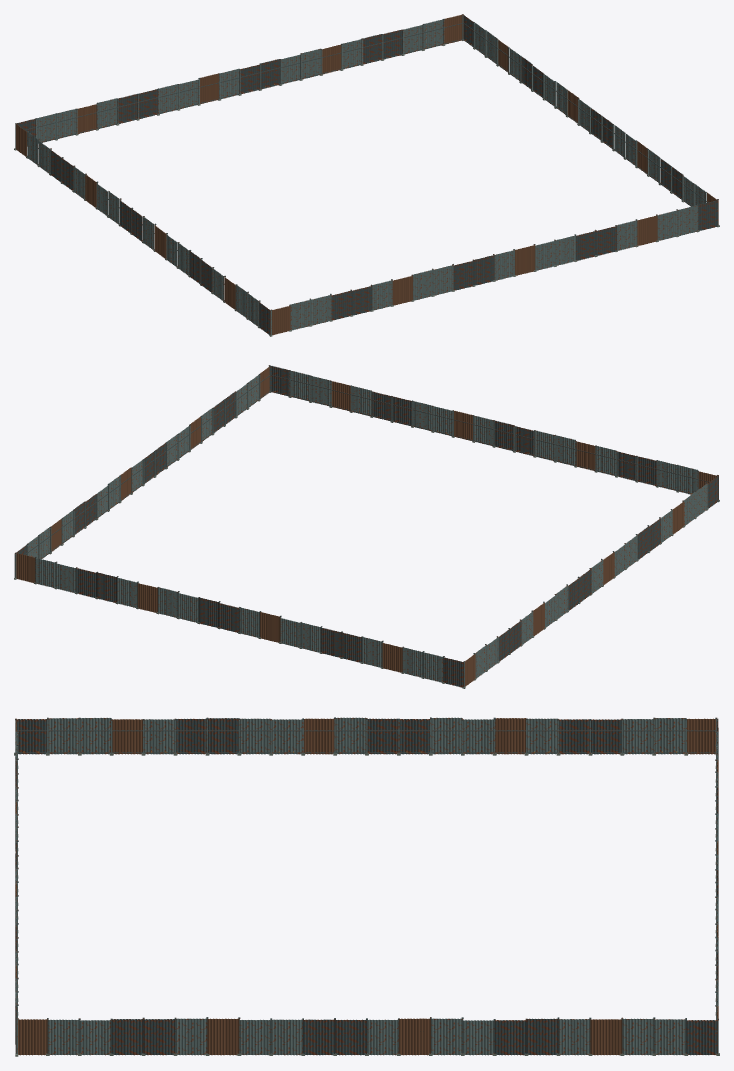
The model's file is perimeter.glb.
3 renders of one model, top to bottom at view 1: azimuth 30°, elevation 25°; view 2: azimuth 150°, elevation 25°; view 3: azimuth 270°, elevation 25°, orthographic. The views are drawn at different scales.
Visible parts, largest first — view 1: CorrugatedSouth, CorrugatedNorth, CorrugatedWest, CorrugatedEast; view 2: CorrugatedNorth, CorrugatedSouth, CorrugatedWest, CorrugatedEast; view 3: CorrugatedEast, CorrugatedWest, CorrugatedSouth, CorrugatedNorth.
Boxes of the visible parts, x1=… form: CorrugatedSouth: x1=269, y1=199, x2=719, y2=335; CorrugatedNorth: x1=14, y1=14, x2=463, y2=150; CorrugatedWest: x1=16, y1=124, x2=272, y2=336; CorrugatedEast: x1=461, y1=14, x2=718, y2=225; CorrugatedNorth: x1=15, y1=552, x2=465, y2=688; CorrugatedSouth: x1=268, y1=365, x2=718, y2=500; CorrugatedWest: x1=462, y1=475, x2=719, y2=686; CorrugatedEast: x1=14, y1=366, x2=270, y2=579; CorrugatedEast: x1=15, y1=1017, x2=719, y2=1055; CorrugatedWest: x1=14, y1=717, x2=716, y2=755; CorrugatedSouth: x1=15, y1=720, x2=18, y2=1056; CorrugatedNorth: x1=715, y1=717, x2=718, y2=1053.
Size of the model in its own units: 67.7 by 3.94 by 66.7.
Materials: 5 (3 with a texture image).
